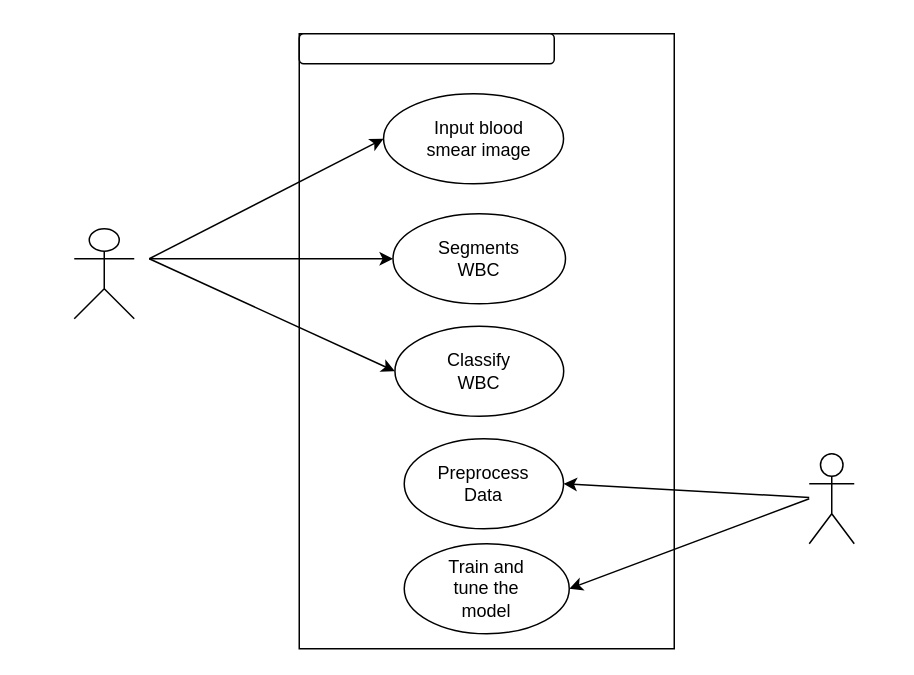
Some shapes in this 914 by 675 pixel diagram are drawn without their labels. Each missing label, with the centre of its shape:
Data Scientist: [831,498]
Medical Practitioner: [103,273]
WBC Classifier: [426,48]
